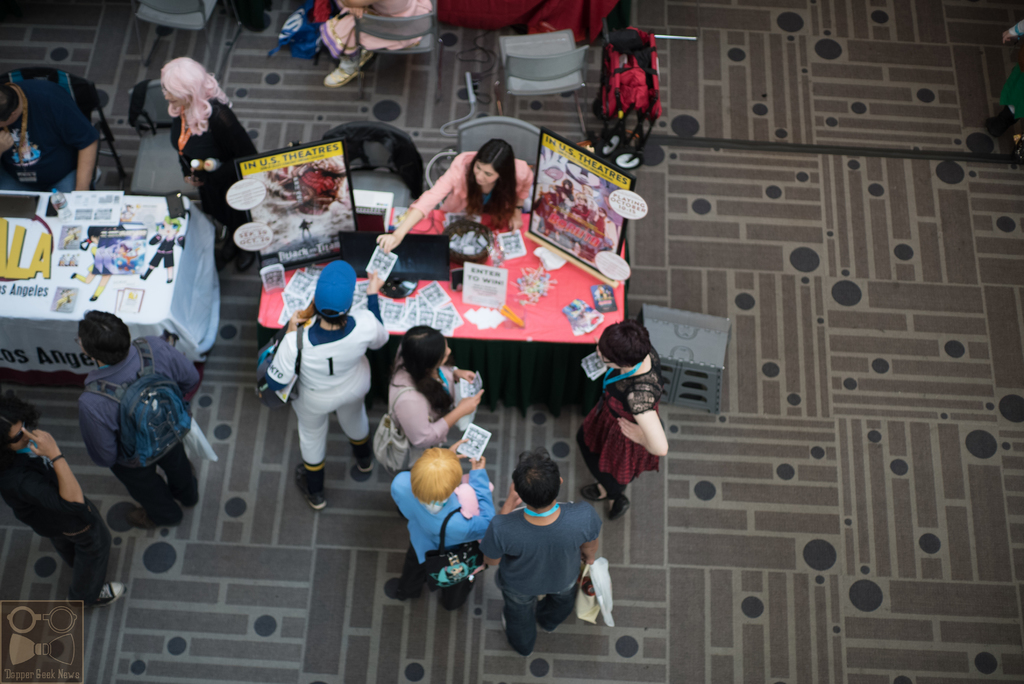Human_hand: (20, 426, 57, 459), (458, 391, 483, 417), (378, 234, 399, 254), (448, 438, 468, 459), (468, 453, 490, 469), (511, 484, 524, 509), (460, 366, 478, 377)
